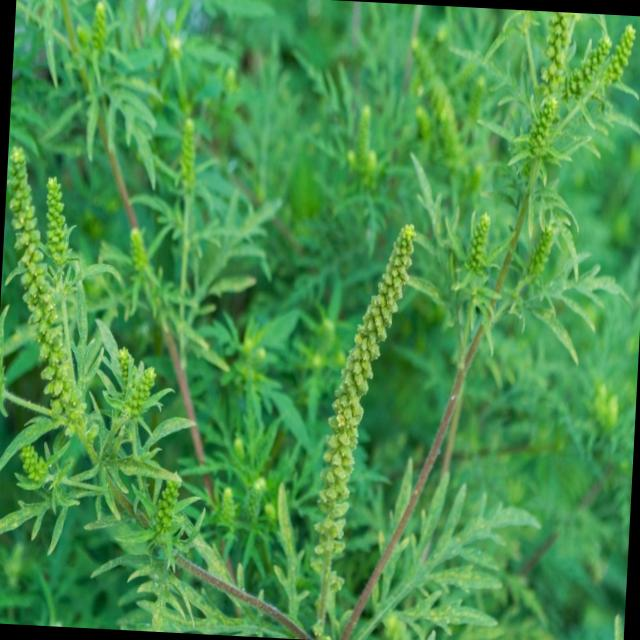ambrosia: (0, 132, 182, 521), (292, 208, 431, 615), (495, 9, 640, 190)
